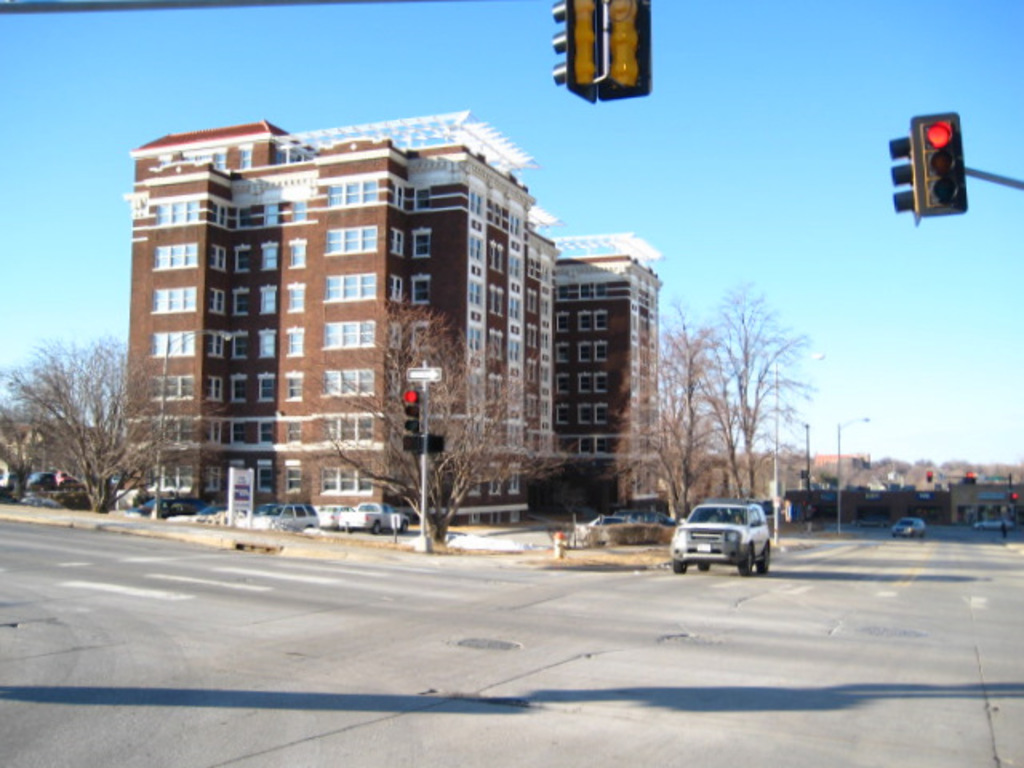red_light: (921, 115, 964, 210), (402, 385, 419, 452)
